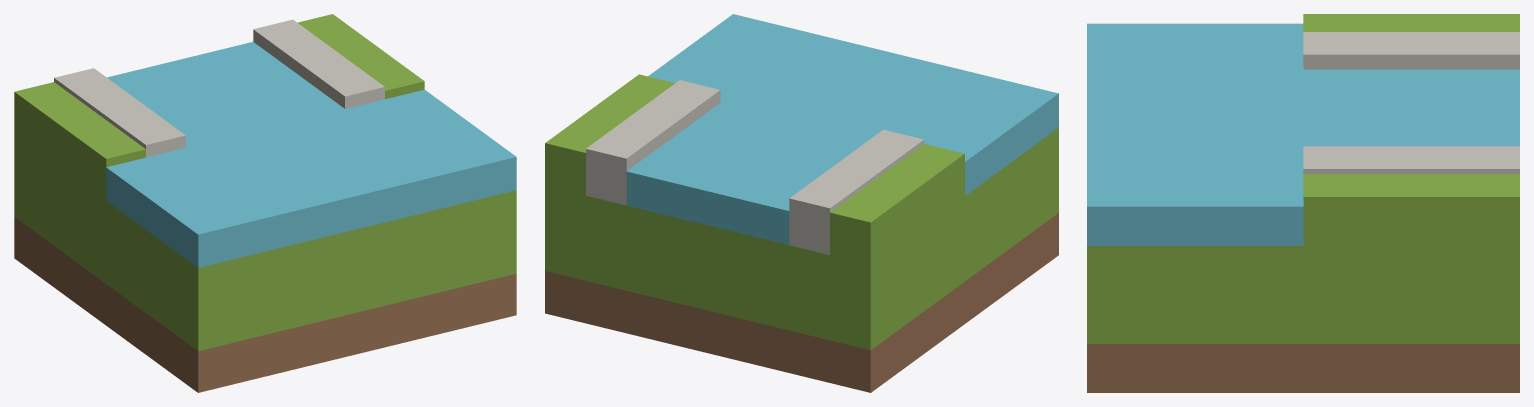
File: canal-river-high.obj
The picture shows the model from 3 angles, left to right: view 1: azimuth 30°, elevation 25°; view 2: azimuth 150°, elevation 25°; view 3: azimuth 270°, elevation 25°; orthographic projection. The views are drawn at different scales.
Parts seen in each view (by area): view 1: canal-river-high_Cube.557; view 2: canal-river-high_Cube.557; view 3: canal-river-high_Cube.557.
Boxes of the visible parts, box(x1,y1,x2,y2) form: canal-river-high_Cube.557: box(14, 14, 516, 392); canal-river-high_Cube.557: box(545, 14, 1058, 392); canal-river-high_Cube.557: box(1087, 14, 1519, 392).
Bounding box in the file's own units: 8 × 4.1 × 8.
Materials: 1 (1 with a texture image).
